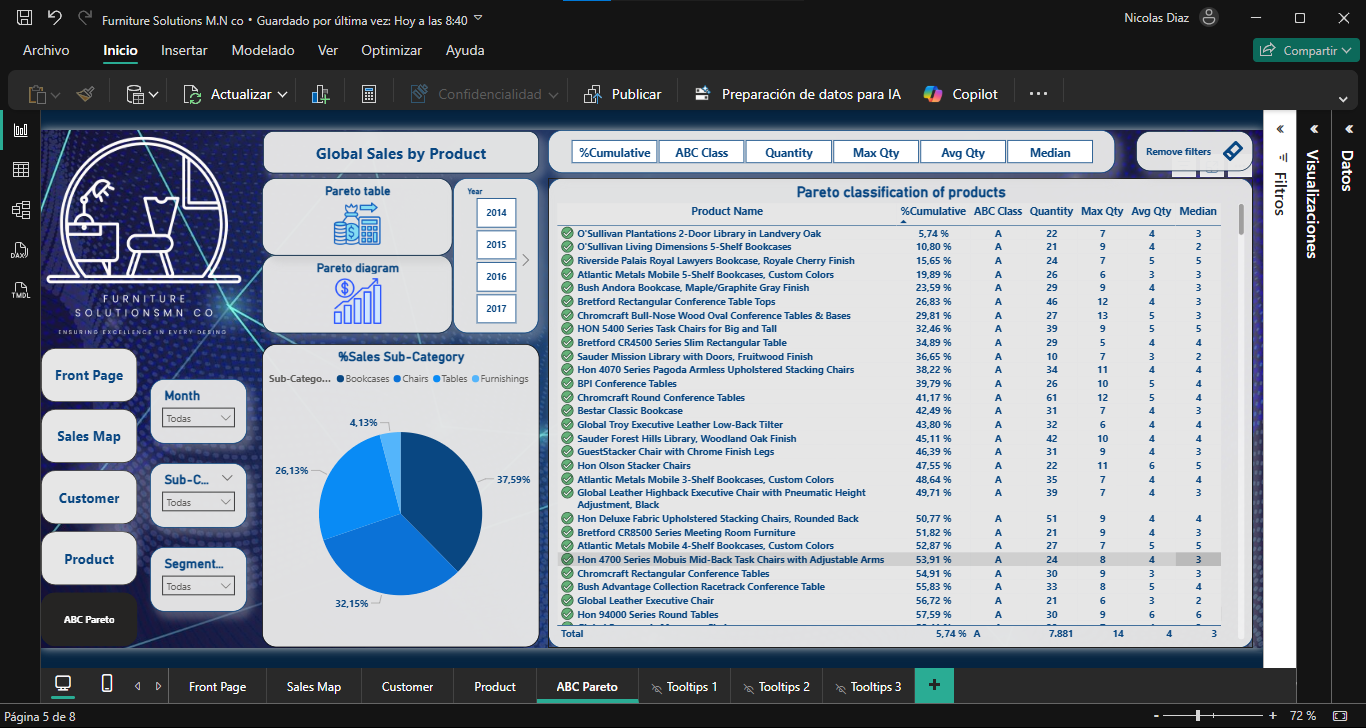

This screenshot's page, from the dashboard's own definition file:
{"tool":"powerbi","page":{"name":"ABC Pareto","canvas":[1700,720],"ordinal":4},"visuals":[{"type":"tableEx","title":"Pareto classification of products","fields":{"Values":["Product_Table.Product Name","Measures Table.%Cumulative","Measures Table.ABC Classification","Measures Table.Global_Quantity","Measures Table.Max Qty","Measures Table.Average Qty","Measures Table.Median"]},"box":[705.4,66.8,980.9,653.9],"z":0},{"type":"pageNavigator","box":[0,302.8,134.8,417.2],"z":2000},{"type":"image","box":[0,0,286.2,297.2],"z":3000},{"type":"textbox","box":[308.3,1.8,384,59.1],"z":4000},{"type":"actionButton","box":[1524,2,163,56],"z":5000},{"type":"pieChart","title":"%Sales Sub-Category","fields":{"Category":["Product_Table.Sub-Category"],"Y":["Measures Table.Global_Sales"]},"box":[307.2,297.6,385.6,422.4],"z":6000},{"type":"image","title":"Pareto diagram","box":[307.5,173.8,265,108.8],"z":7000},{"type":"image","title":"Pareto table","box":[307.5,66.2,265,107.5],"z":8000},{"type":"slicer","fields":{"Values":["Calendario.Date.Variación.Jerarquía de fechas.Año"]},"box":[573.8,66.2,118.8,216.2],"z":9000},{"type":"slicer","fields":{"Values":["Parámetro.Parámetro"]},"box":[705,0,789,60],"z":10000},{"type":"slicer","fields":{"Values":["Calendar.Date.Variación.Jerarquía de fechas.Mes"]},"box":[151.4,347.1,134.8,90.5],"z":12000},{"type":"slicer","fields":{"Values":["Product Table.Sub-Category"]},"box":[151.4,463.4,134.8,90.5],"z":13000},{"type":"slicer","fields":{"Values":["Customer Table.Segment"]},"box":[151.4,579.7,134.8,90.5],"z":14000}]}

Visuals, with their boxes on the page's 1700x720 design canvas (x1, y1, x2, y2). These are canvas units, not pixel positions in the 1366x728 screenshot, which may show the page scaled, cropped or inside an application window:
"Pareto classification of products" tableEx: <bbox>705, 67, 1686, 721</bbox>
pageNavigator: <bbox>0, 303, 135, 720</bbox>
image: <bbox>0, 0, 286, 297</bbox>
textbox: <bbox>308, 2, 692, 61</bbox>
actionButton: <bbox>1524, 2, 1687, 58</bbox>
"%Sales Sub-Category" pieChart: <bbox>307, 298, 693, 720</bbox>
"Pareto diagram" image: <bbox>308, 174, 572, 283</bbox>
"Pareto table" image: <bbox>308, 66, 572, 174</bbox>
slicer - Calendario.Date.Variación.Jerarquía de fechas.Año: <bbox>574, 66, 693, 282</bbox>
slicer - Parámetro.Parámetro: <bbox>705, 0, 1494, 60</bbox>
slicer - Calendar.Date.Variación.Jerarquía de fechas.Mes: <bbox>151, 347, 286, 438</bbox>
slicer - Product Table.Sub-Category: <bbox>151, 463, 286, 554</bbox>
slicer - Customer Table.Segment: <bbox>151, 580, 286, 670</bbox>
